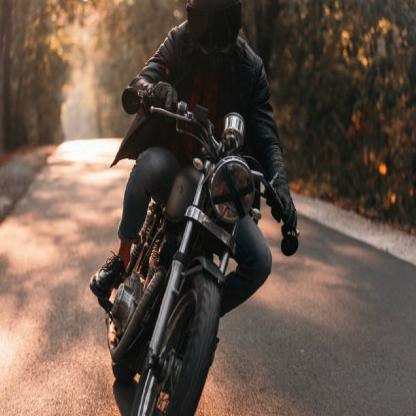Motorcycle: (103, 71, 279, 415)
